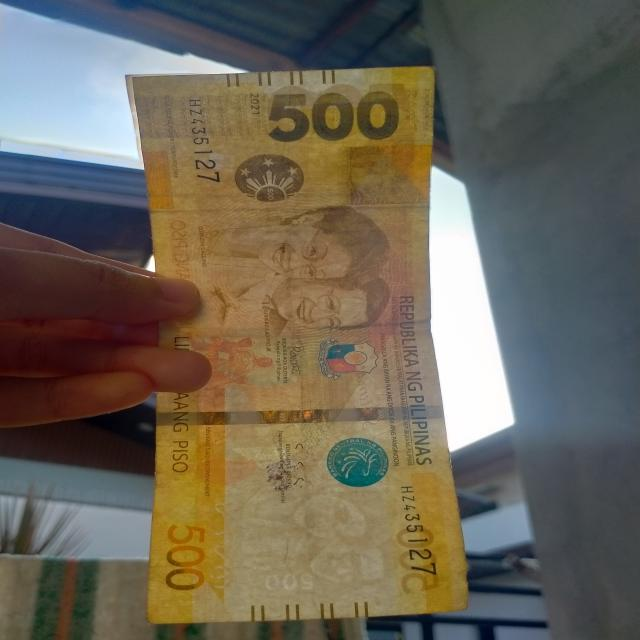concealed_value: (347, 144, 430, 209)
security_thread: (152, 403, 444, 427)
see_through_mark: (203, 494, 253, 598)
value_watermark: (263, 566, 316, 596)
watermark: (228, 470, 400, 600)
